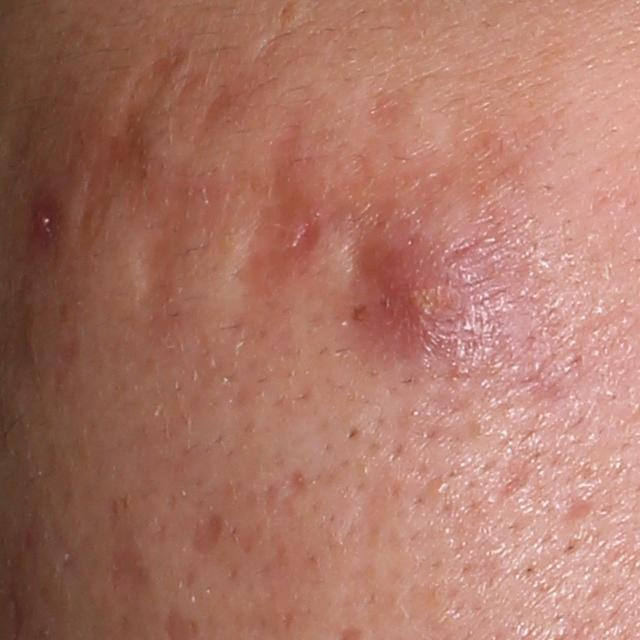atrophic_scar: (191, 510, 227, 560), (552, 493, 596, 530)
